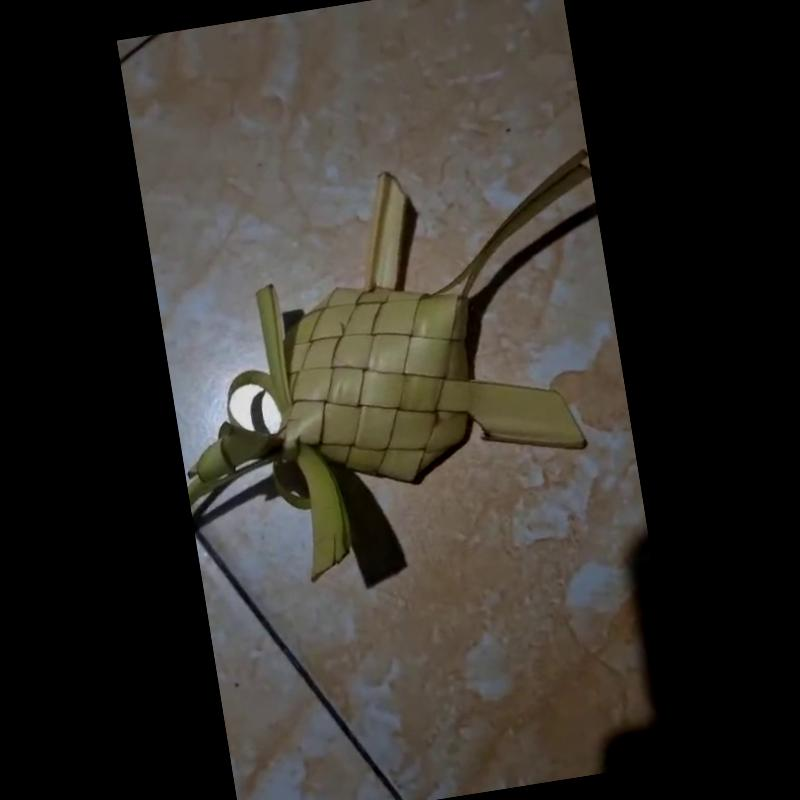Tipat Dampulan: (186, 146, 612, 587)
